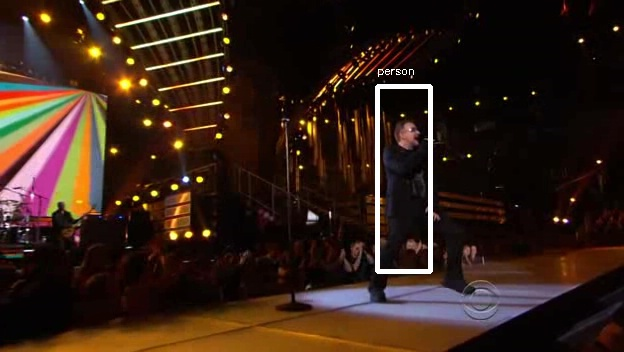person: (381, 123, 447, 243), (378, 123, 444, 243), (384, 123, 450, 243), (381, 120, 447, 240), (381, 126, 447, 246)
target_negative: (43, 85, 430, 335), (281, 43, 486, 148), (152, 106, 237, 286), (130, 265, 225, 309), (539, 250, 601, 298), (302, 216, 310, 345)
